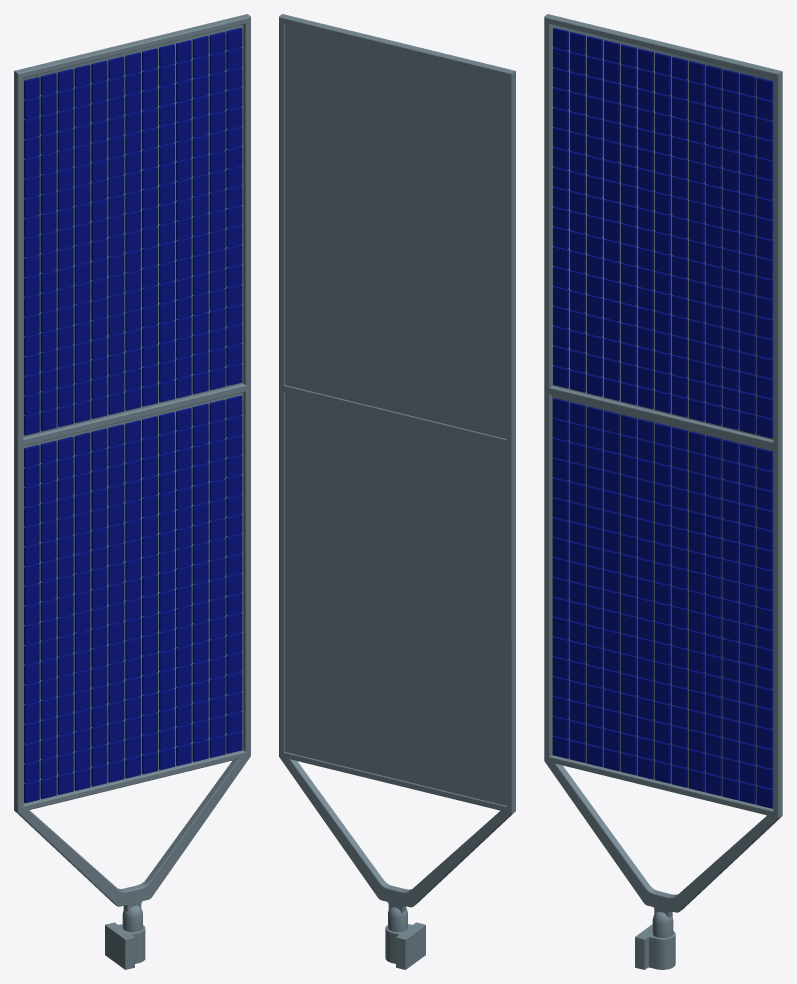
File: Solarpanels.obj
3 renders of one model, left to right at view 1: azimuth 30°, elevation 25°; view 2: azimuth 150°, elevation 25°; view 3: azimuth 330°, elevation 25°, orthographic.
Visible parts, largest first — view 1: Rectangle285, Line058, Line059; view 2: Line058, Line059; view 3: Rectangle285, Line058, Line059.
Part boxes in pixels (x1,y1,x2,y2): Rectangle285: (24,27,242,803); Line058: (14,14,250,911); Line059: (105,922,145,969); Line058: (279,14,515,913); Line059: (385,922,425,969); Rectangle285: (553,28,772,808); Line058: (544,14,782,917); Line059: (635,924,675,969).
Size of the model in its own units: 159 by 596 by 24.16.
